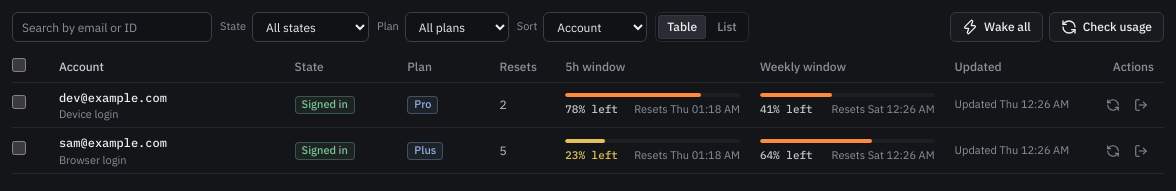
CodexAccountsPane › narrows rows to the search needle and says so when nothing matches
The image size is (1176, 191).
Type "sam" into the search field named "Search accounts" at (112, 27), box x1=12 y1=12 x2=212 y2=42
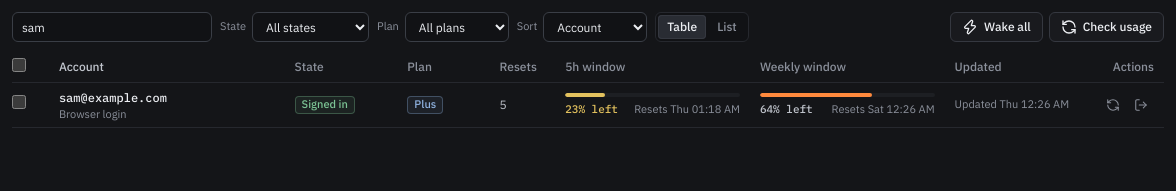
Expected: the text "sam@example.com" is shown, x1=59 y1=90 x2=167 y2=104
Expected: the text "dev@example.com" is gone
Replace the text in the search field named "Search accounts" with "nothing@nowhere" at (112, 27), box x1=12 y1=12 x2=212 y2=42
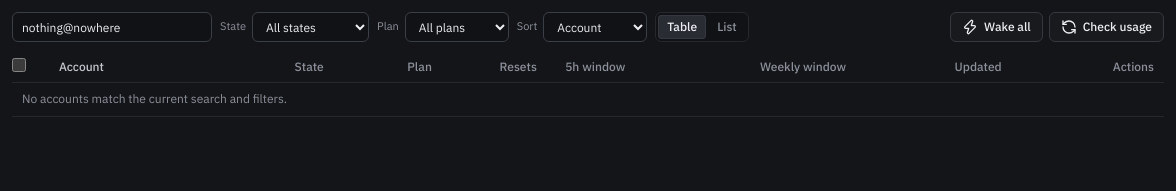
Expected: the checkbox named "Select all accounts" is not checked, x1=12 y1=58 x2=26 y2=72
Expected: the text "No accounts match the current search and filters." is shown, x1=12 y1=82 x2=1164 y2=116
